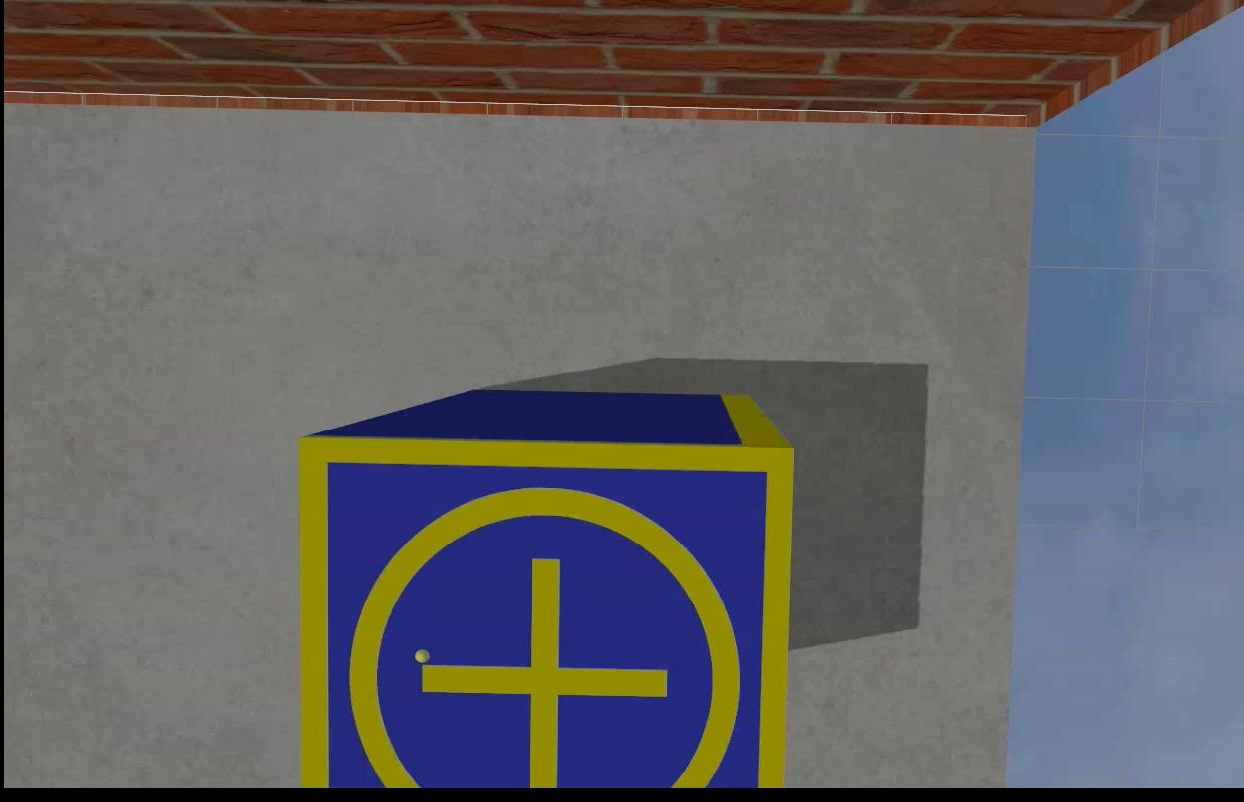small_base: (291, 435, 795, 797)
